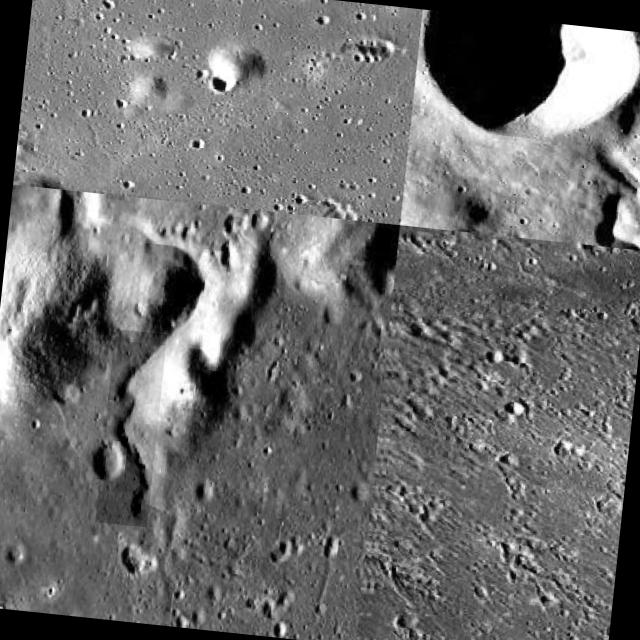rille: (13, 0, 243, 204), (95, 330, 167, 528)
